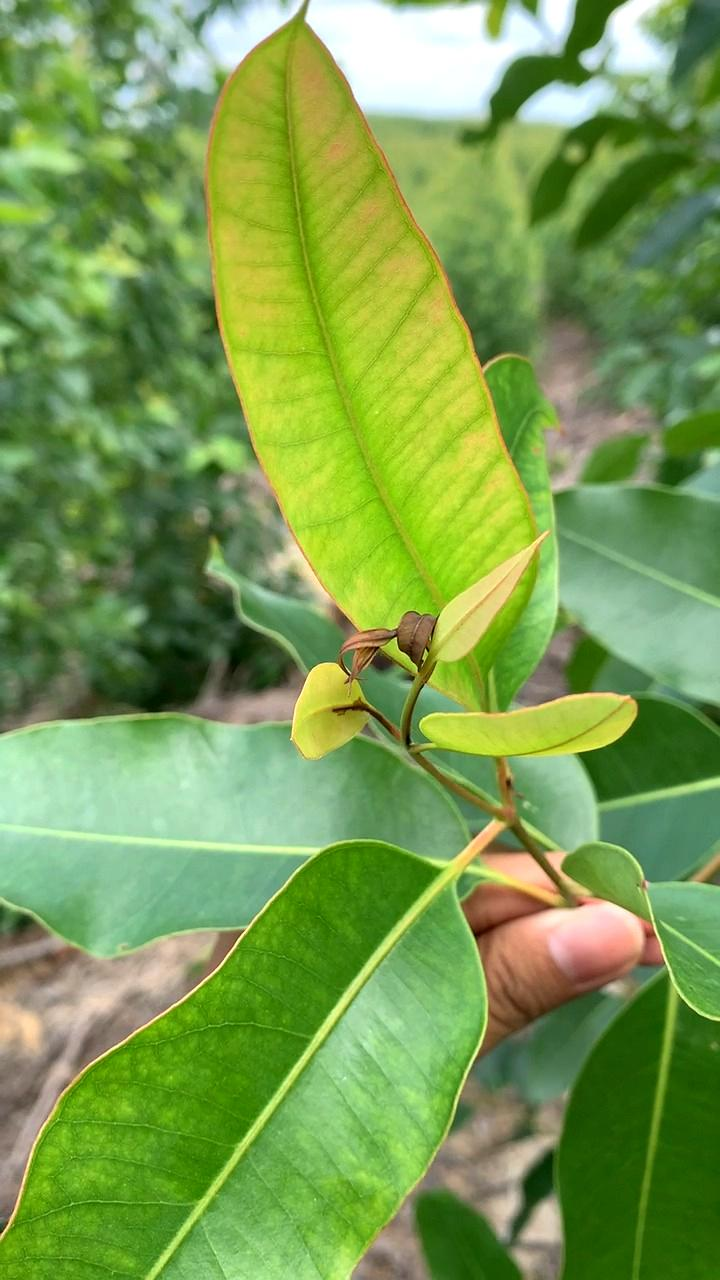Helopeltis-Withered Sprout: (333, 588, 466, 723)
